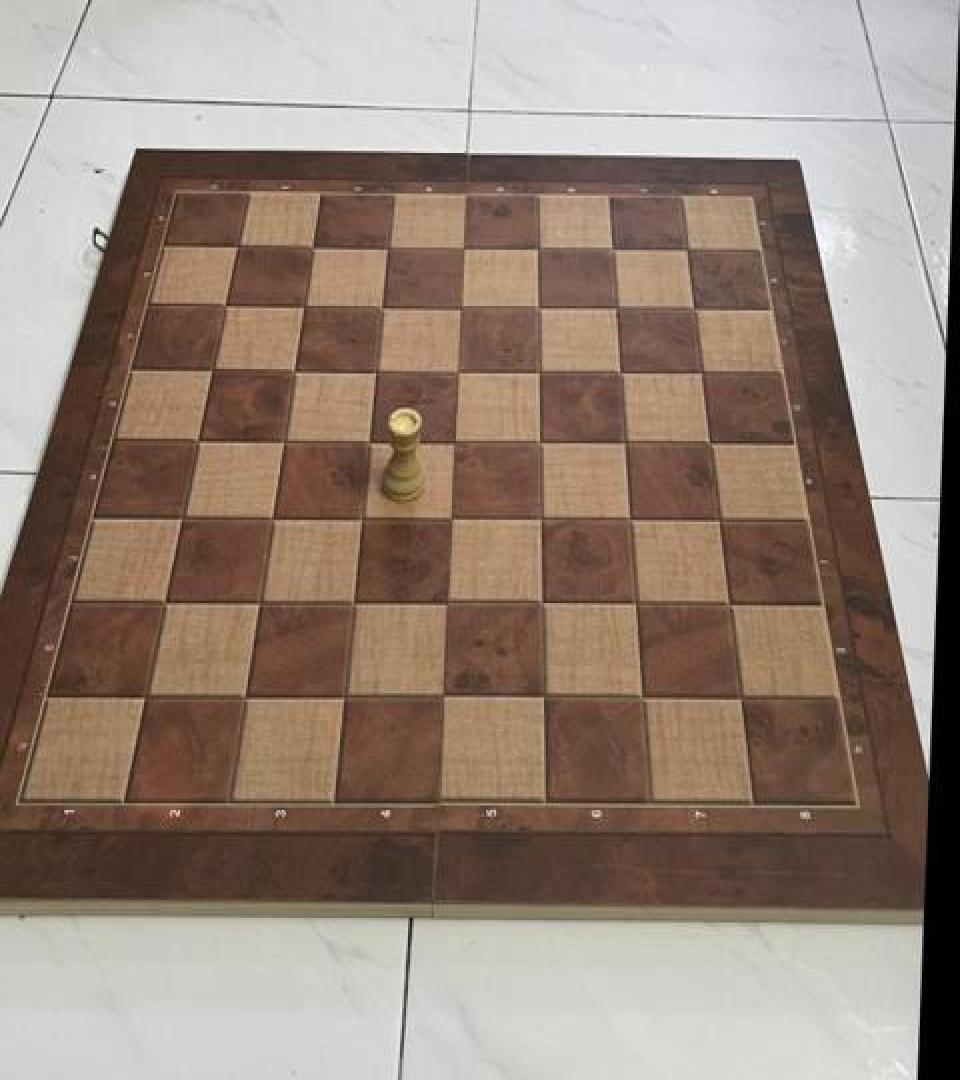xcorner: (683, 353, 717, 392), (602, 353, 636, 392), (612, 499, 646, 538), (523, 499, 557, 538), (433, 499, 467, 538), (344, 499, 378, 538), (668, 231, 702, 269), (593, 230, 627, 268), (518, 230, 552, 268), (444, 230, 478, 268), (369, 230, 403, 268), (294, 228, 328, 266), (219, 228, 253, 266), (675, 289, 709, 327), (597, 289, 631, 327), (519, 288, 553, 326), (441, 288, 475, 326), (363, 288, 397, 326), (286, 288, 320, 326), (208, 287, 242, 325), (520, 352, 554, 390), (439, 352, 473, 390), (358, 352, 392, 390), (276, 352, 310, 390), (195, 351, 229, 389), (692, 423, 726, 461), (607, 423, 641, 461), (521, 423, 555, 461), (436, 423, 470, 461), (351, 422, 385, 460), (266, 422, 300, 460), (181, 422, 215, 460), (701, 501, 735, 539), (255, 498, 289, 536), (165, 498, 199, 536), (712, 585, 746, 623), (618, 585, 652, 623), (524, 585, 558, 623), (430, 584, 464, 622), (336, 584, 370, 622), (242, 584, 276, 622), (148, 584, 182, 622), (724, 680, 758, 718), (625, 680, 659, 718), (526, 678, 560, 716), (427, 678, 461, 716), (328, 678, 362, 716), (228, 678, 262, 716), (129, 678, 163, 716)
